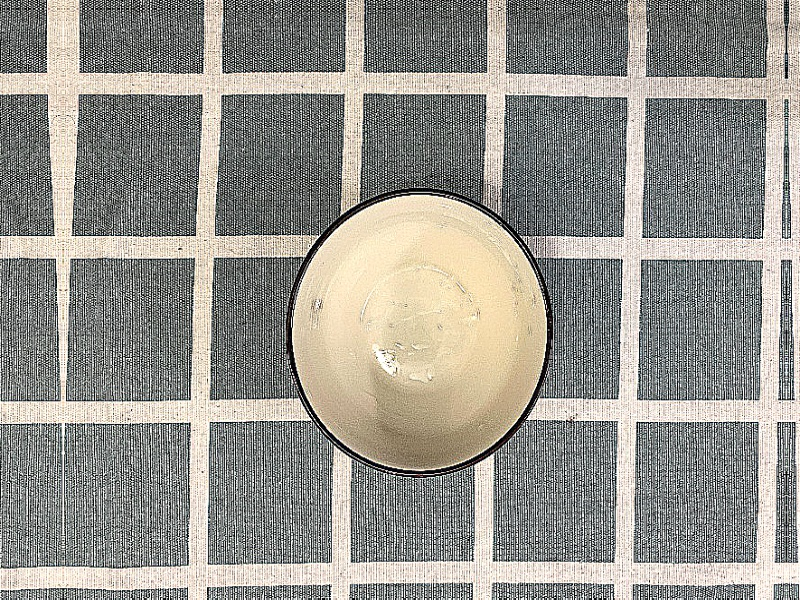bowl_small: (278, 179, 562, 483)
